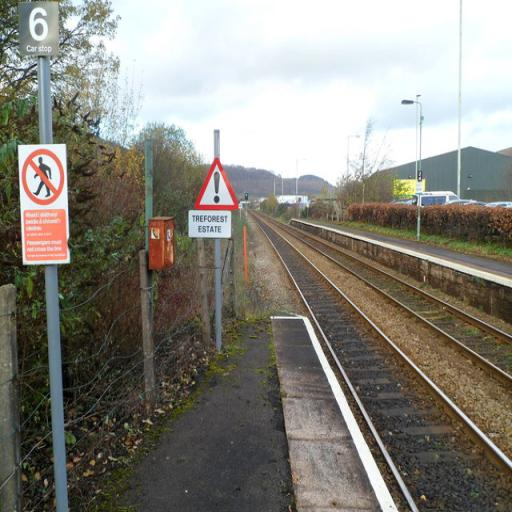platform_edge: (255, 303, 409, 512)
